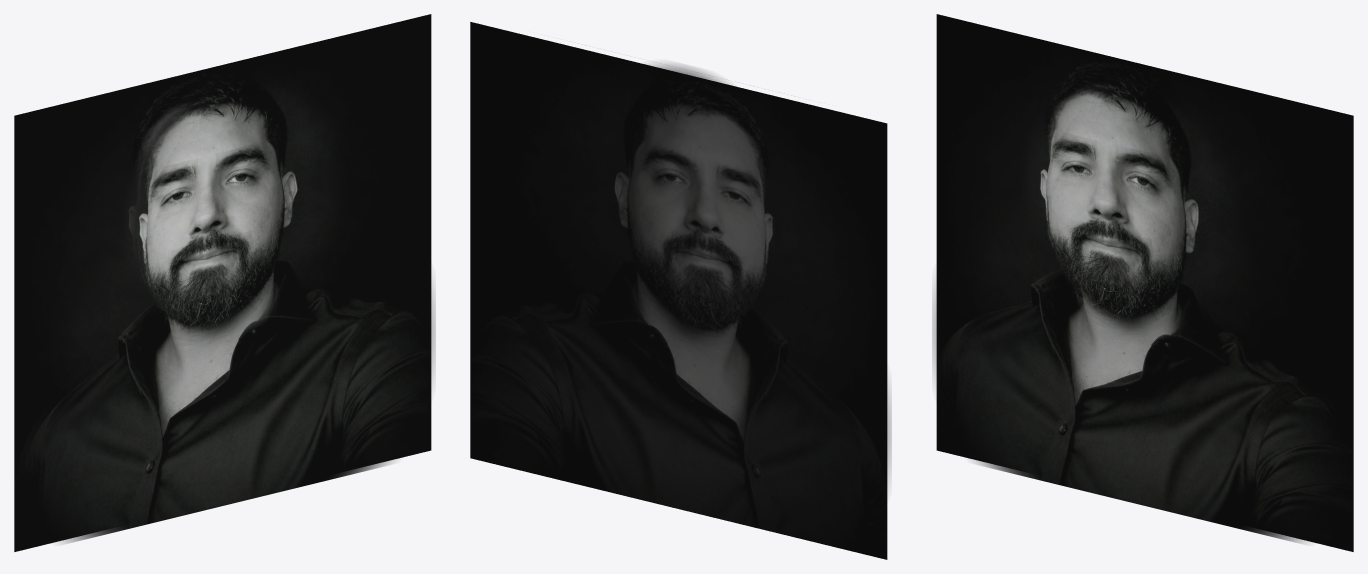
File: rafa-portrait-25d.glb
3 views of the same model, side by side, from view 1: azimuth 30°, elevation 25°; view 2: azimuth 150°, elevation 25°; view 3: azimuth 330°, elevation 25° (orthographic).
Visible parts, largest first — view 1: Portrait_Torso, Portrait_BG, Portrait_Face; view 2: Portrait_BG; view 3: Portrait_Torso, Portrait_BG, Portrait_Face.
Boxes of the visible parts, <box> form: Portrait_Torso: <box>19,197,435,543</box>; Portrait_BG: <box>14,14,431,551</box>; Portrait_Face: <box>121,71,344,335</box>; Portrait_BG: <box>470,22,887,559</box>; Portrait_Torso: <box>932,197,1348,543</box>; Portrait_BG: <box>936,14,1353,551</box>; Portrait_Face: <box>1023,71,1246,335</box>.
Size of the model in its own units: 4 by 4 by 0.1983.
Materials: 3 (3 with a texture image).
